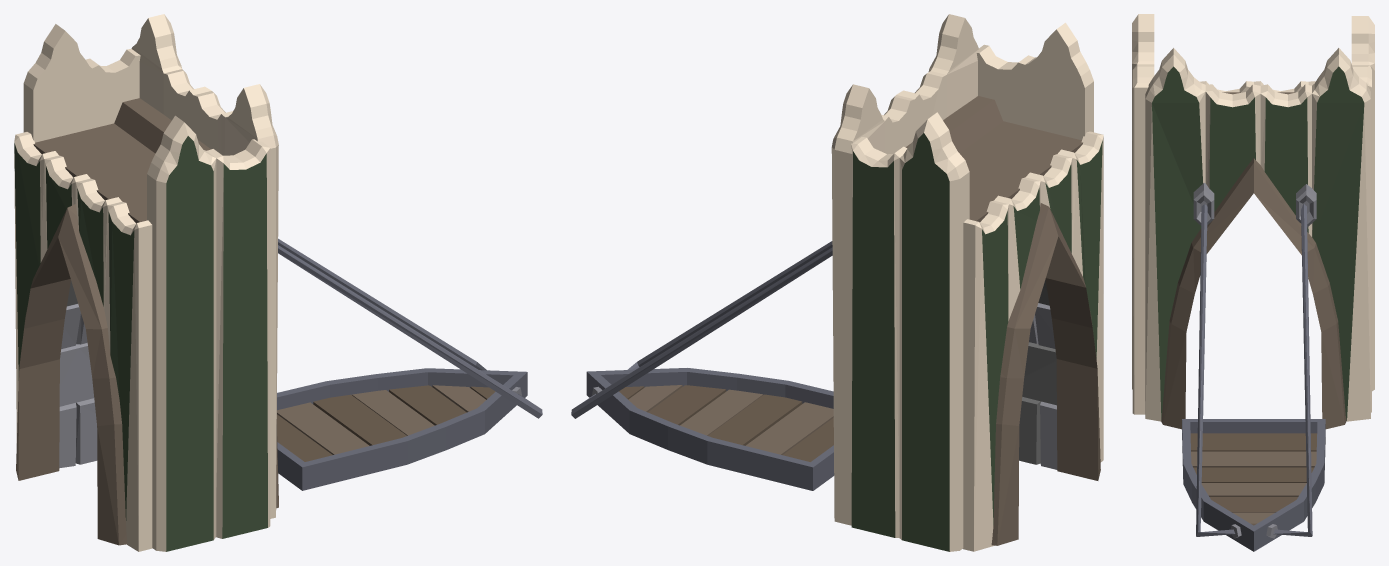
Rendered from _minnor_gates_4.fbx.
3 views of the same model, side by side, from view 1: azimuth 30°, elevation 25°; view 2: azimuth 150°, elevation 25°; view 3: azimuth 270°, elevation 25° (orthographic). The views are drawn at different scales.
Parts seen in each view (by area): view 1: minnor_gates_1; view 2: minnor_gates_1; view 3: minnor_gates_1.
Boxes of the visible parts, box(x1,y1,x2,y2) form: minnor_gates_1: box(14, 14, 542, 551); minnor_gates_1: box(571, 14, 1103, 551); minnor_gates_1: box(1132, 14, 1374, 551).
Size of the model in its own units: 1075 by 934 by 557.
